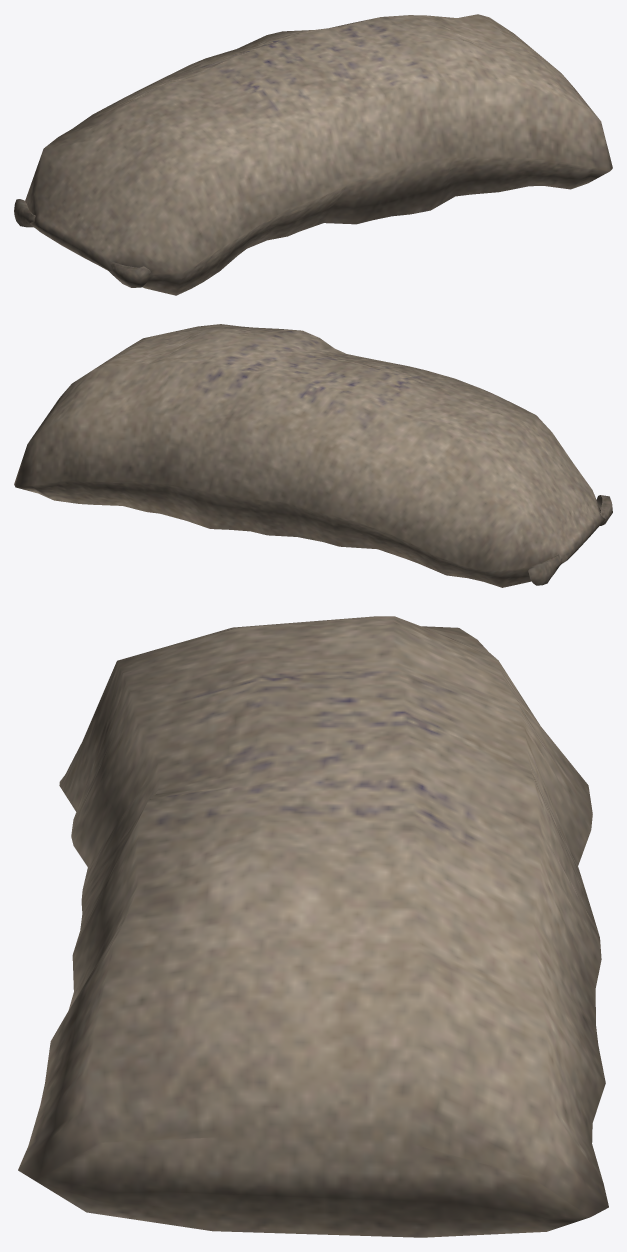
The model's file is SM_FAR_CornSack_Single_01.fbx.
The picture shows the model from 3 angles, top to bottom: view 1: azimuth 30°, elevation 25°; view 2: azimuth 150°, elevation 25°; view 3: azimuth 270°, elevation 25°; orthographic projection. The views are drawn at different scales.
Parts seen in each view (by area): view 1: SM_FAR_CornSack_Single_01.mo; view 2: SM_FAR_CornSack_Single_01.mo; view 3: SM_FAR_CornSack_Single_01.mo.
Part boxes in pixels (left/top/right/bottom): SM_FAR_CornSack_Single_01.mo: left=14, top=14, right=612, bottom=295; SM_FAR_CornSack_Single_01.mo: left=14, top=324, right=612, bottom=587; SM_FAR_CornSack_Single_01.mo: left=18, top=616, right=608, bottom=1237.
Bounding box in the file's own units: 61.74 × 18.57 × 31.42.
